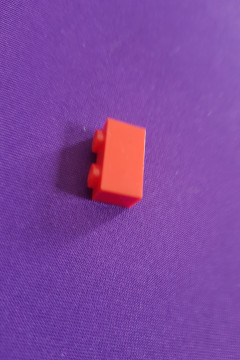1x2 red: (86, 116, 148, 206)
